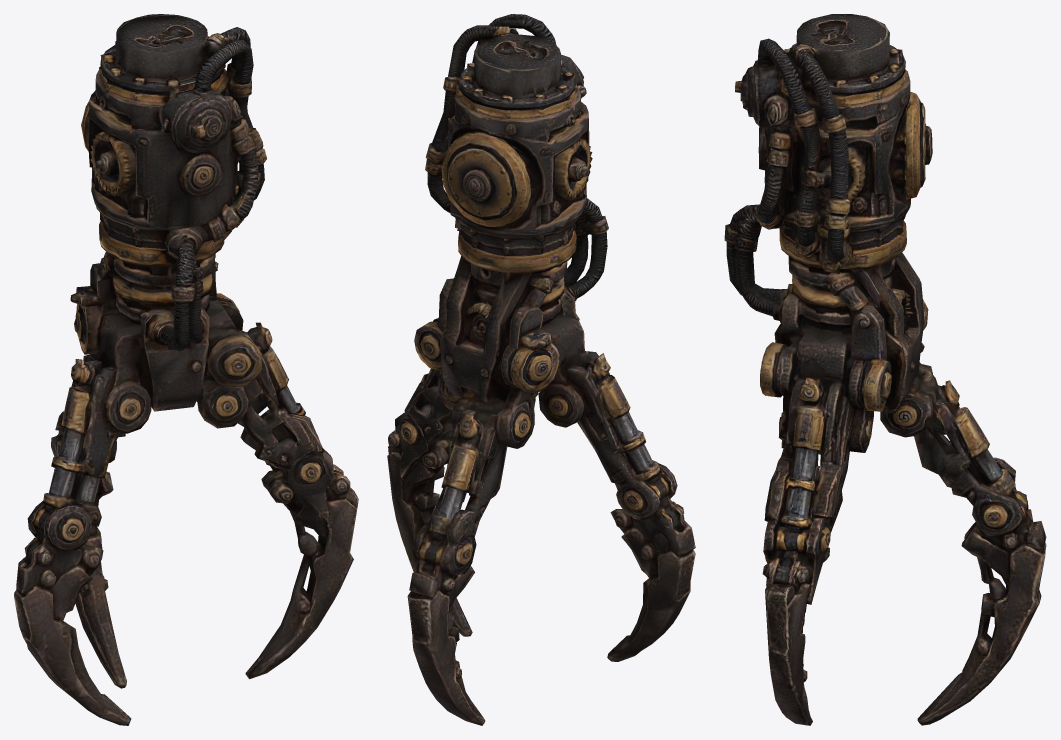
The model's file is claw.glb.
The picture shows the model from 3 angles, left to right: view 1: azimuth 30°, elevation 25°; view 2: azimuth 150°, elevation 25°; view 3: azimuth 270°, elevation 25°; orthographic projection. The views are drawn at different scales.
Visible parts, largest first — view 1: claw; view 2: claw; view 3: claw.
Boxes of the visible parts, x1,y1,x2,y2 form: claw: [14, 14, 358, 725]; claw: [387, 14, 695, 725]; claw: [724, 14, 1046, 725].
Size of the model in its own units: 0.848 by 1.7 by 0.7105.
1 material, 1 textured.
